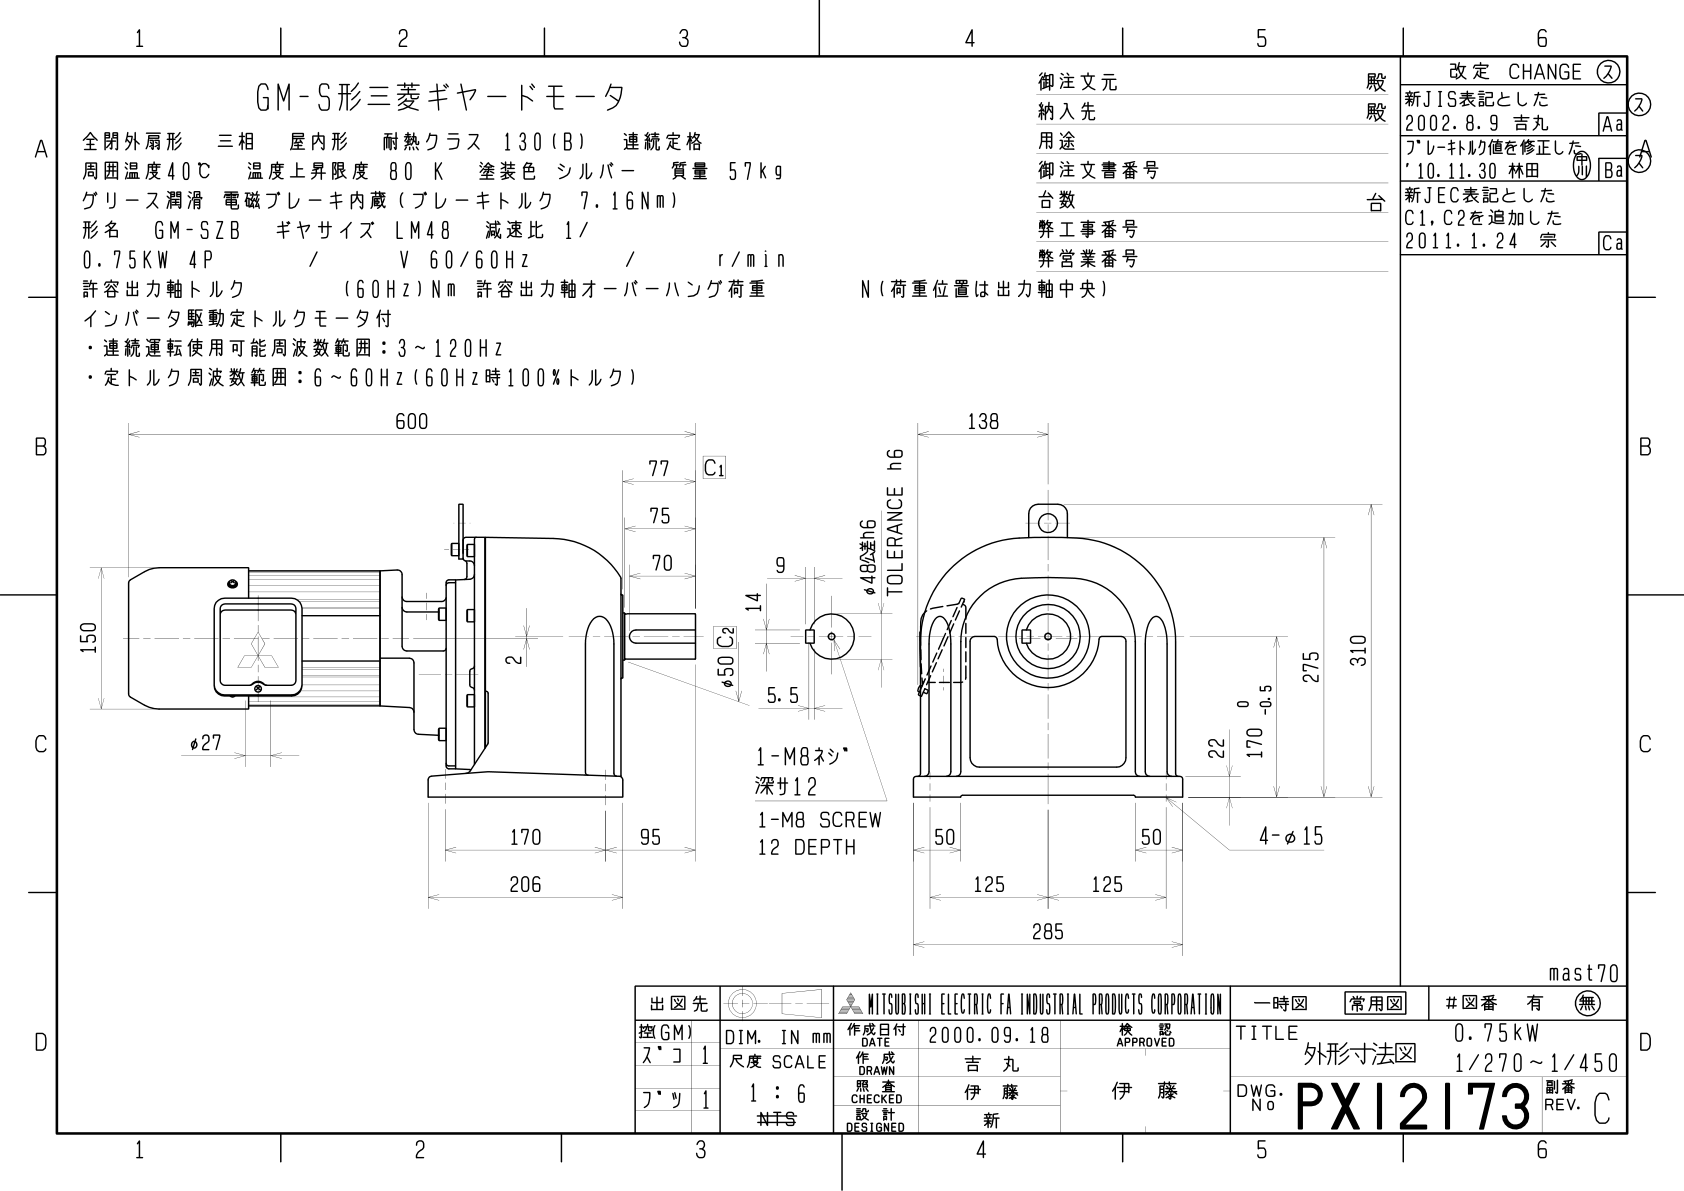GM_S_インバタ屋内＿三相_脚: (1, 6, 1684, 1191)
